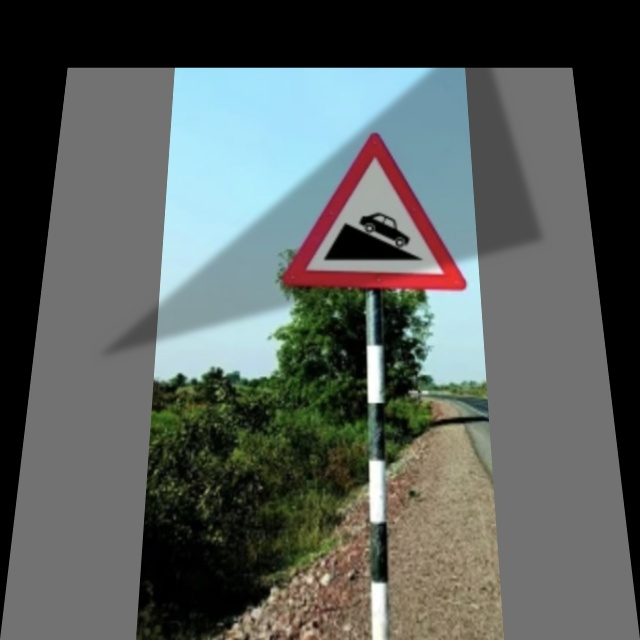Steep_Descent: (287, 133, 466, 297)
